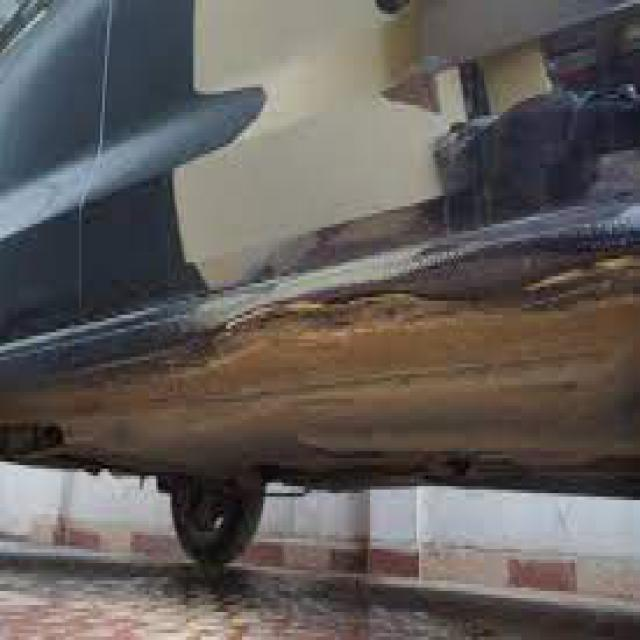RunningBoard-Dent: (207, 252, 477, 346)
